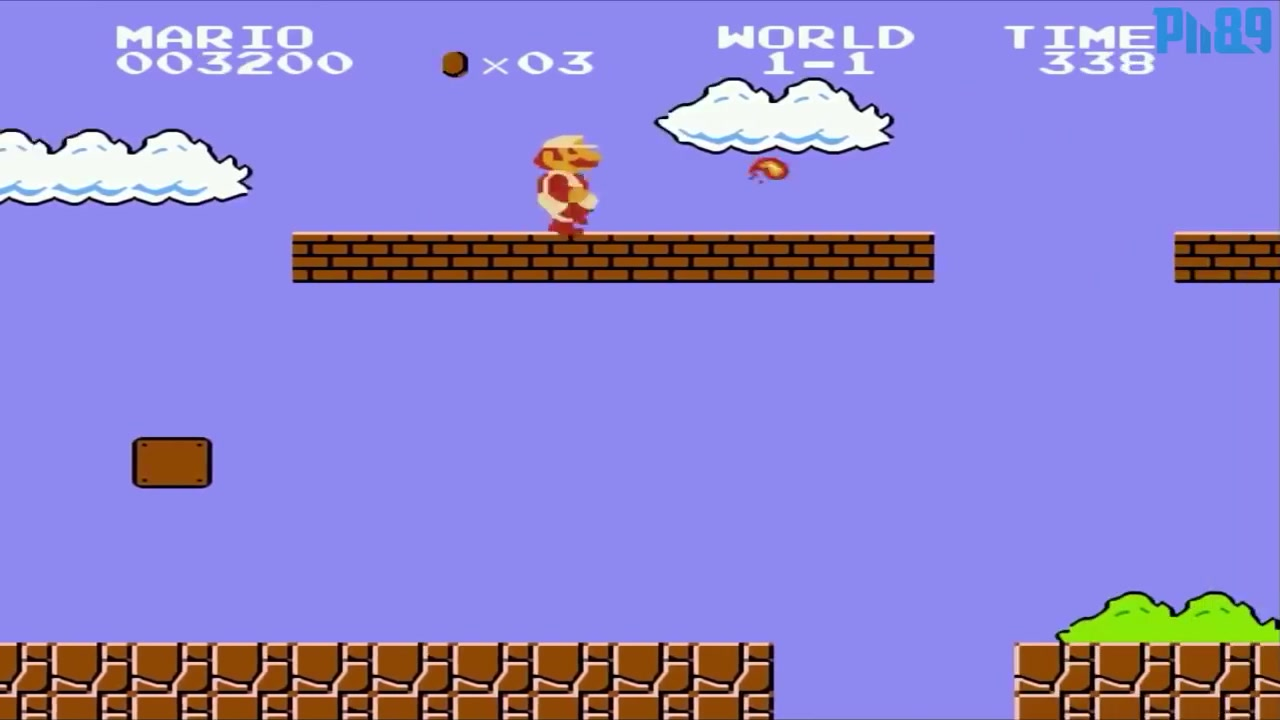mario: (525, 132, 605, 244)
